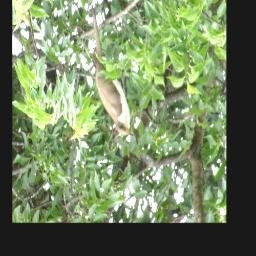Cuckoo: (89, 2, 137, 140)
